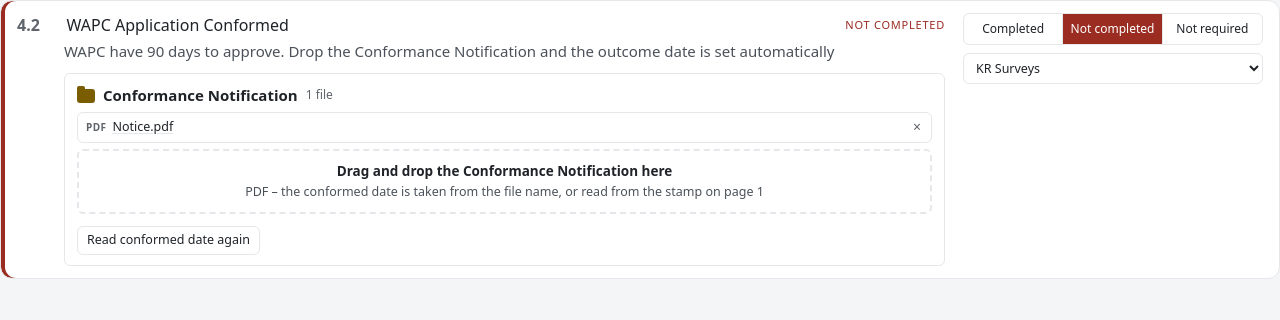
Test: conformance panel › says the PDF couldn't be read when the operation fails
This screenshot has width=1280, height=320.
Click the button "Read conformed date again".
click(168, 240)  # box [77,226,260,255]
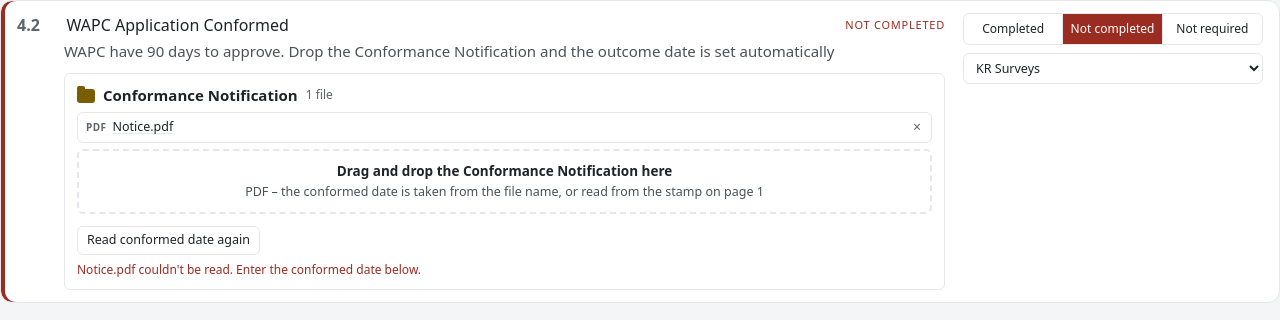
Result: the text "Notice.pdf couldn't be read. Enter the conformed date below." is shown at [77,260,421,278]
